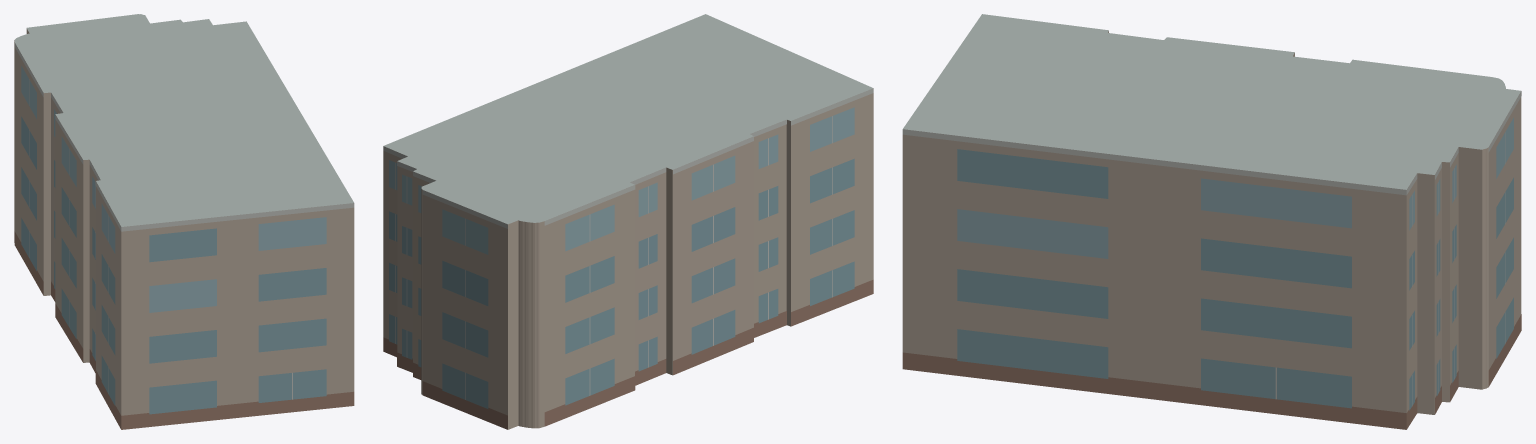
The model's file is survey-upis-32655050.glb.
3 views of the same model, side by side, from view 1: azimuth 30°, elevation 25°; view 2: azimuth 150°, elevation 25°; view 3: azimuth 270°, elevation 25° (orthographic). The views are drawn at different scales.
Visible parts, largest first — view 1: survey-upis-32655050.tmp; view 2: survey-upis-32655050.tmp; view 3: survey-upis-32655050.tmp.
Boxes of the visible parts, box(x1,y1,x2,y2) form: survey-upis-32655050.tmp: box(14, 14, 354, 429); survey-upis-32655050.tmp: box(383, 14, 873, 429); survey-upis-32655050.tmp: box(902, 14, 1521, 429).
Bounding box in the file's own units: 16.83 × 10.7 × 25.01.
